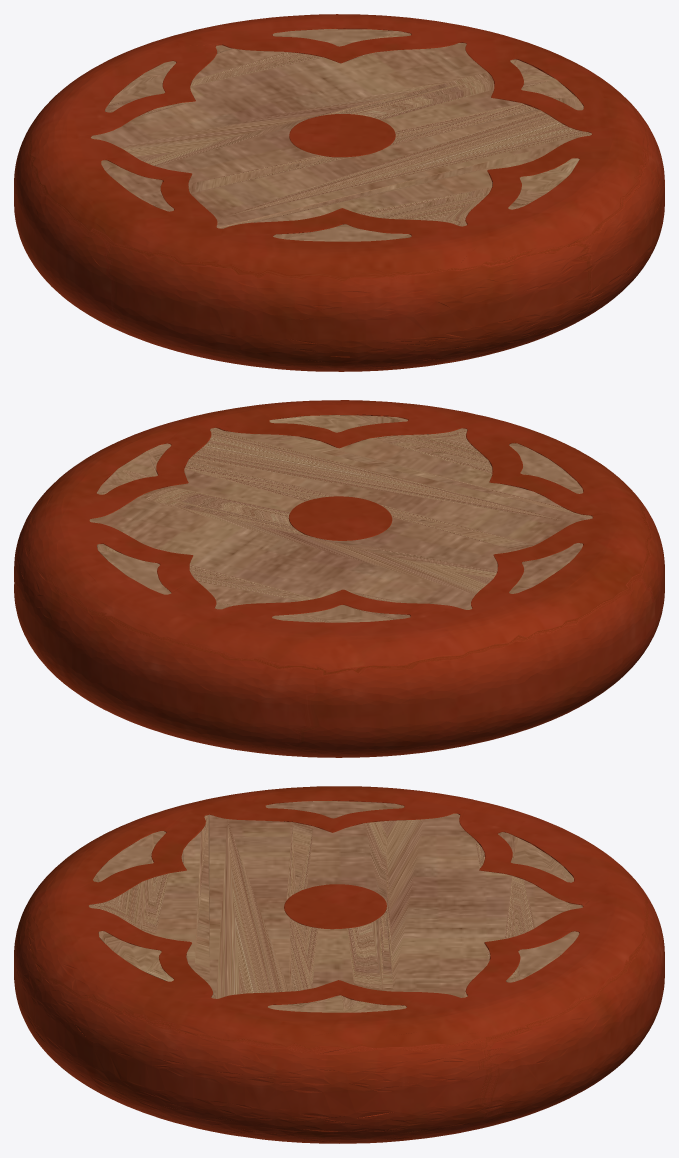
File: Tile_Rose.glb
3 views of the same model, one above another, from view 1: azimuth 30°, elevation 25°; view 2: azimuth 150°, elevation 25°; view 3: azimuth 270°, elevation 25° (orthographic).
Parts seen in each view (by area): view 1: Tile, Face; view 2: Tile, Face; view 3: Tile, Face.
Part boxes in pixels (left/top/right/bottom): Tile: left=14, top=14, right=664, bottom=371; Face: left=91, top=29, right=591, bottom=241; Tile: left=14, top=400, right=664, bottom=757; Face: left=89, top=415, right=592, bottom=622; Tile: left=14, top=786, right=664, bottom=1143; Face: left=89, top=801, right=582, bottom=1012.
Size of the model in its own units: 2 by 0.4 by 2.
Materials: 2 (2 with a texture image).
